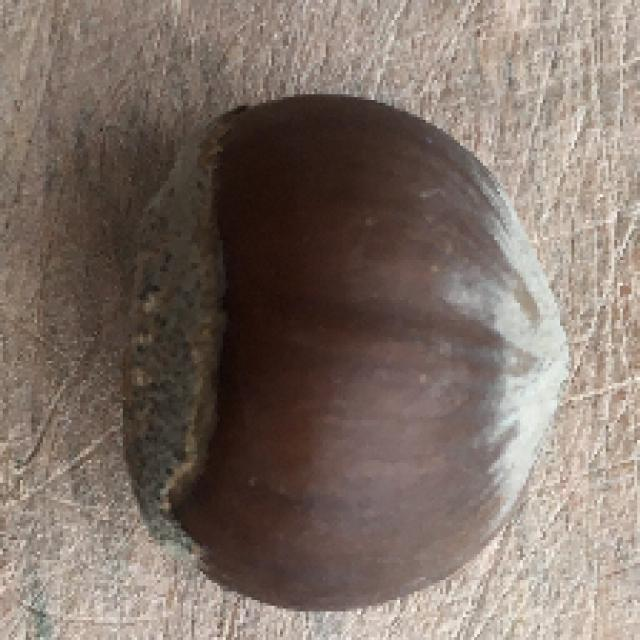DamagedHazelnut: (122, 93, 571, 611)
